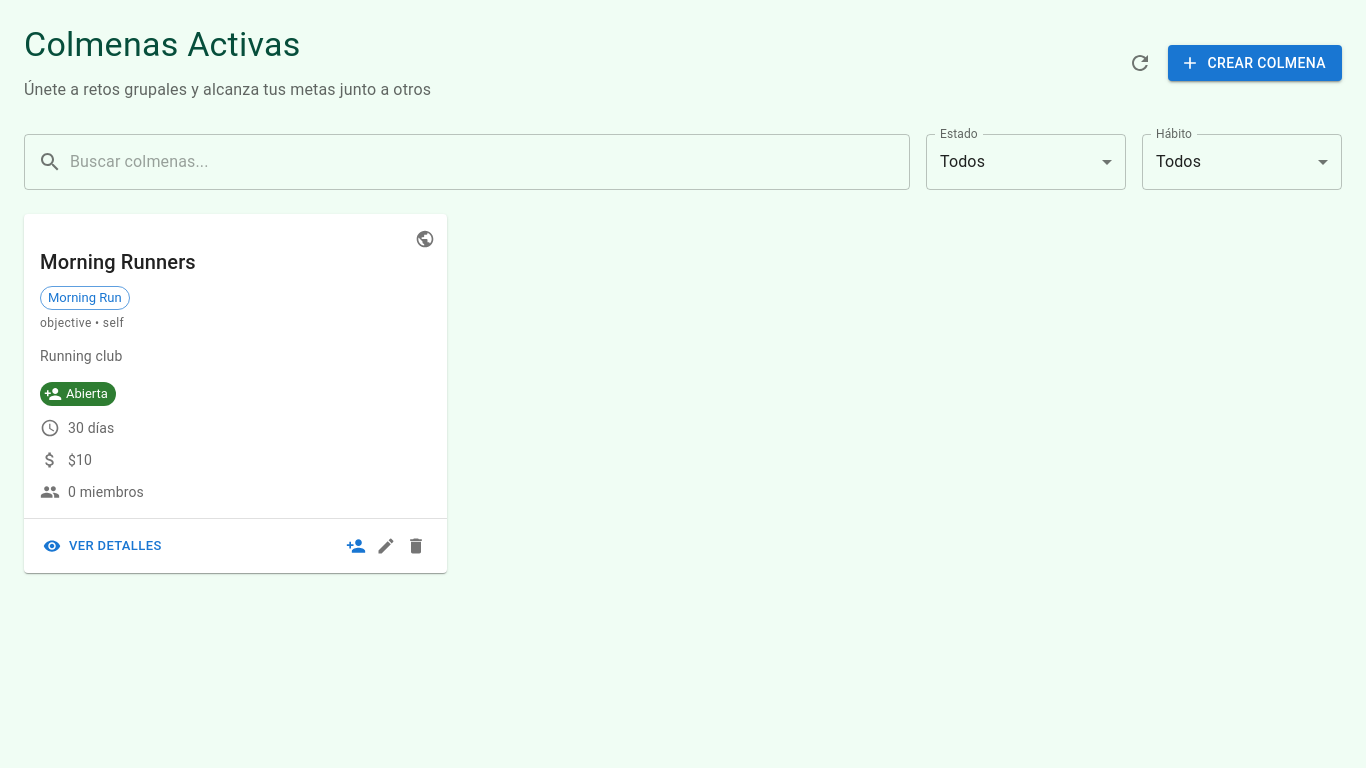
HivesPage › shows empty state when filters yield no results
In the field with placeholder "Buscar colmenas...": (490, 162) [70, 134, 910, 190], type "sin resultados"
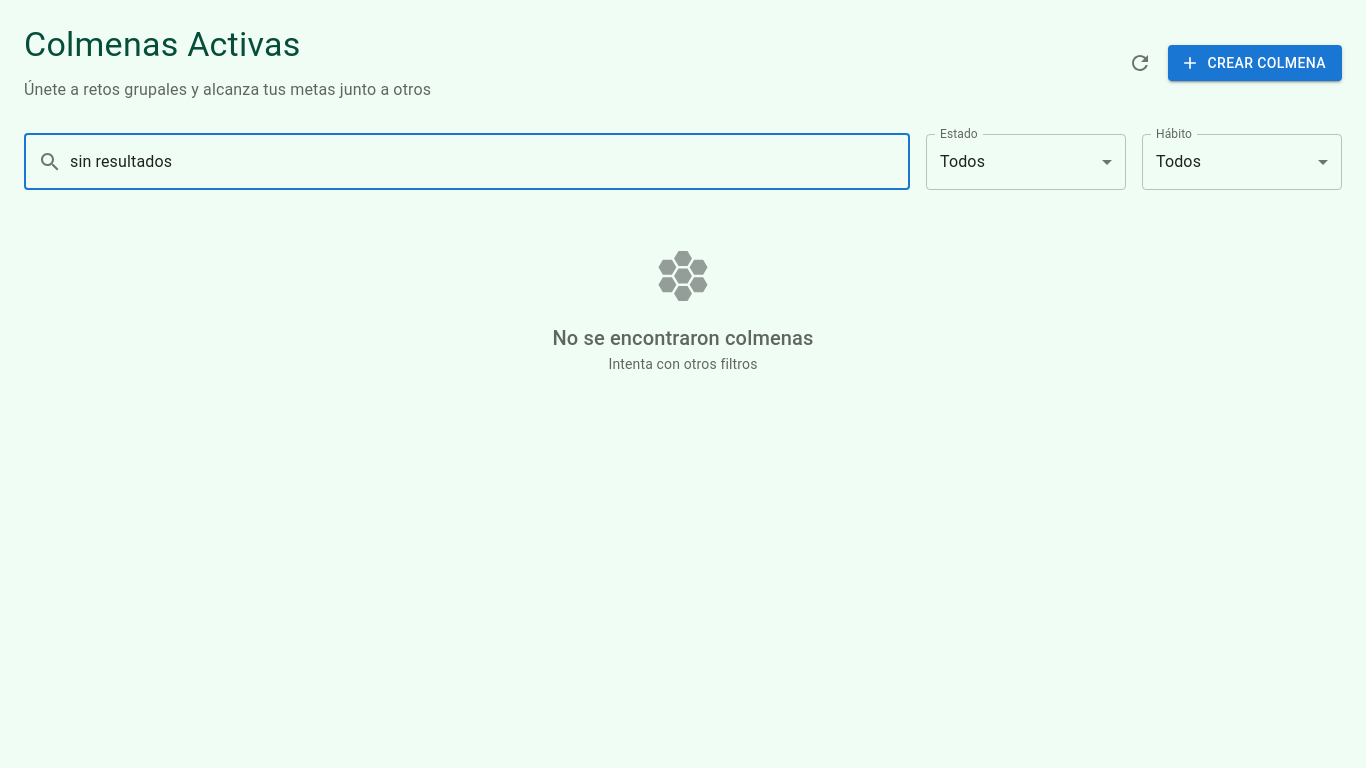
Result: the heading "No se encontraron colmenas" is shown at [552, 326, 814, 350]
Result: the text "Intenta con otros filtros" is shown at [608, 356, 758, 372]
